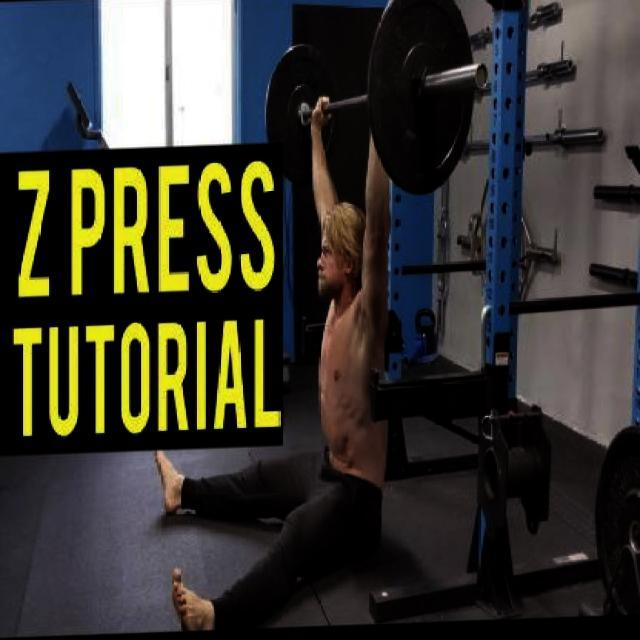barbell: (367, 1, 491, 205)
